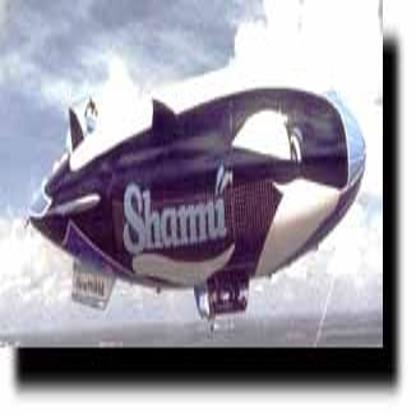Airship: (28, 84, 370, 321)
